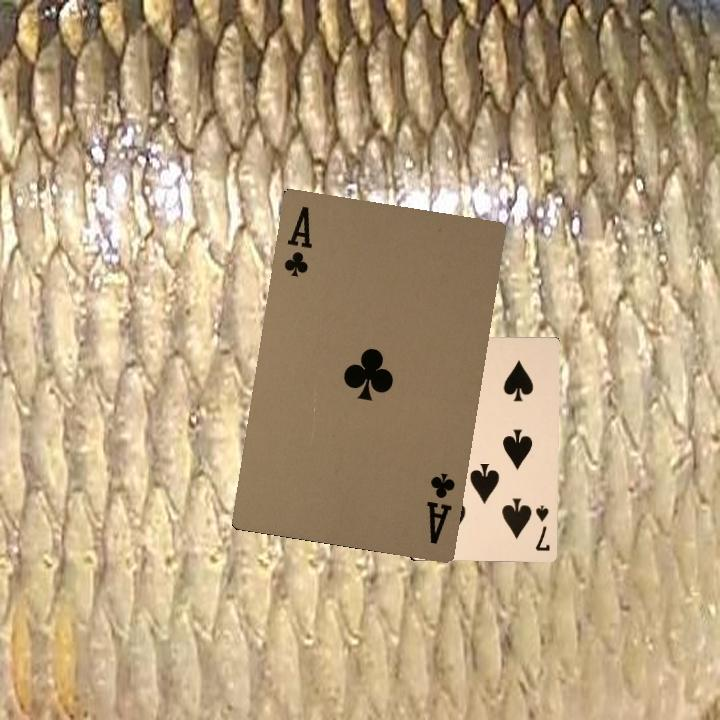7s: (531, 501, 552, 553)
Ac: (422, 468, 458, 547), (280, 202, 315, 279)
